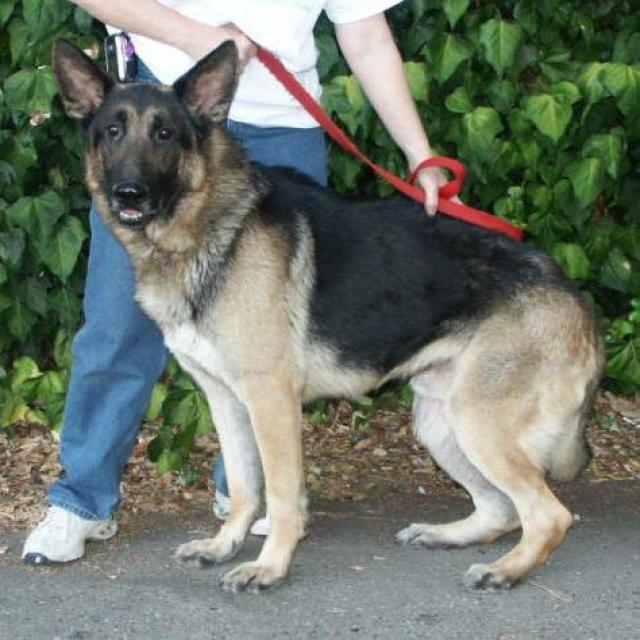dog: (48, 35, 608, 595)
